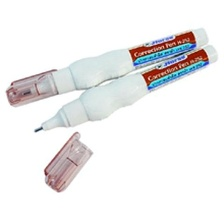correction_fluid: (31, 39, 220, 134), (4, 25, 210, 109)
